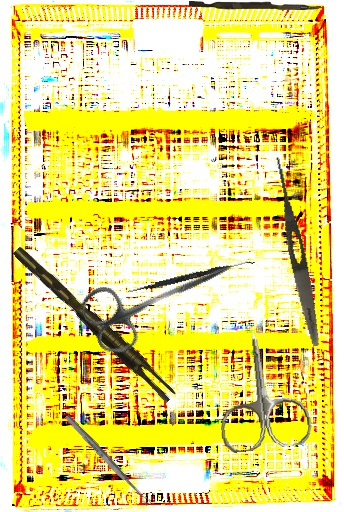Dressing Forceps: (268, 155, 325, 348)
Iris Scissors: (75, 232, 246, 362), (209, 327, 314, 455)
Pusher: (189, 1, 324, 10)
Spatula Surgical: (127, 256, 255, 297)
Surgical Spoon: (63, 413, 153, 508)
Tissue Forceps: (12, 238, 178, 408)
